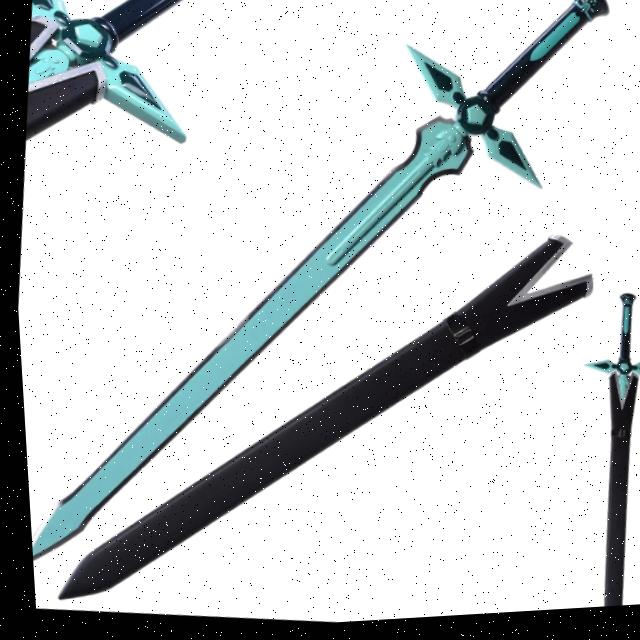knife: (0, 0, 638, 622), (14, 0, 246, 188), (543, 290, 640, 615)
